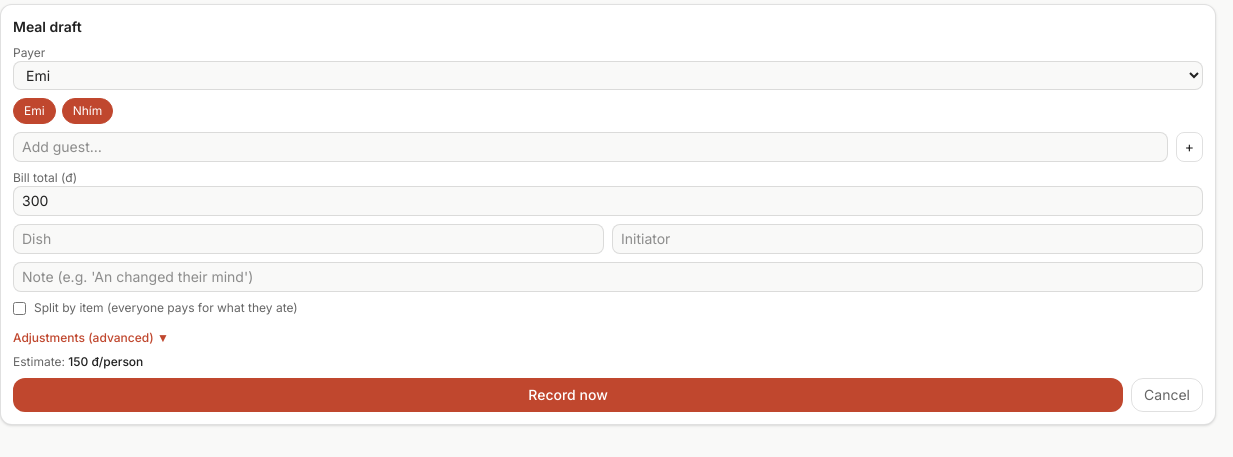
ExpenseDraftCard itemized mode › switching an even-split draft to per-item seeds prices from the estimate
This screenshot has width=1233, height=457.
Check: the text "150 đ/person" is shown, box 68,354 -> 143,369
Click the checkbox labelled "Split by item (everyone pays for what they ate)". click: {"x": 20, "y": 308}
box: 13,302 -> 26,314
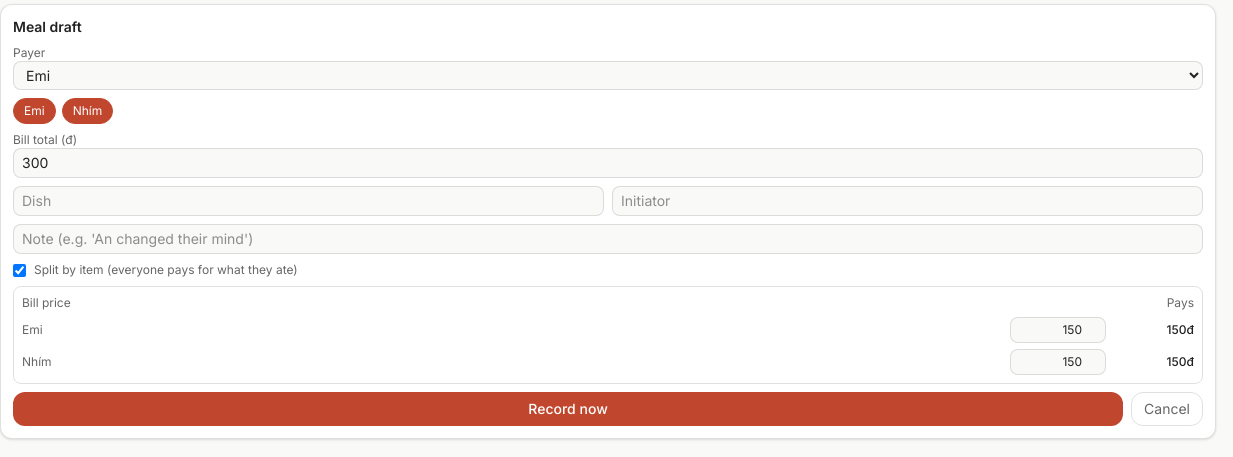
Check: the number field named "item price for Emi" holds "150", box 1010,317 -> 1106,343
